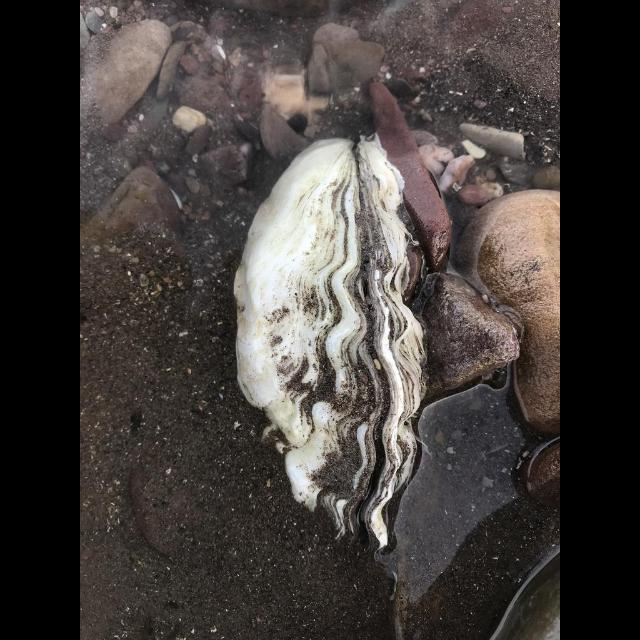Oyster-Open: (224, 132, 436, 558)
